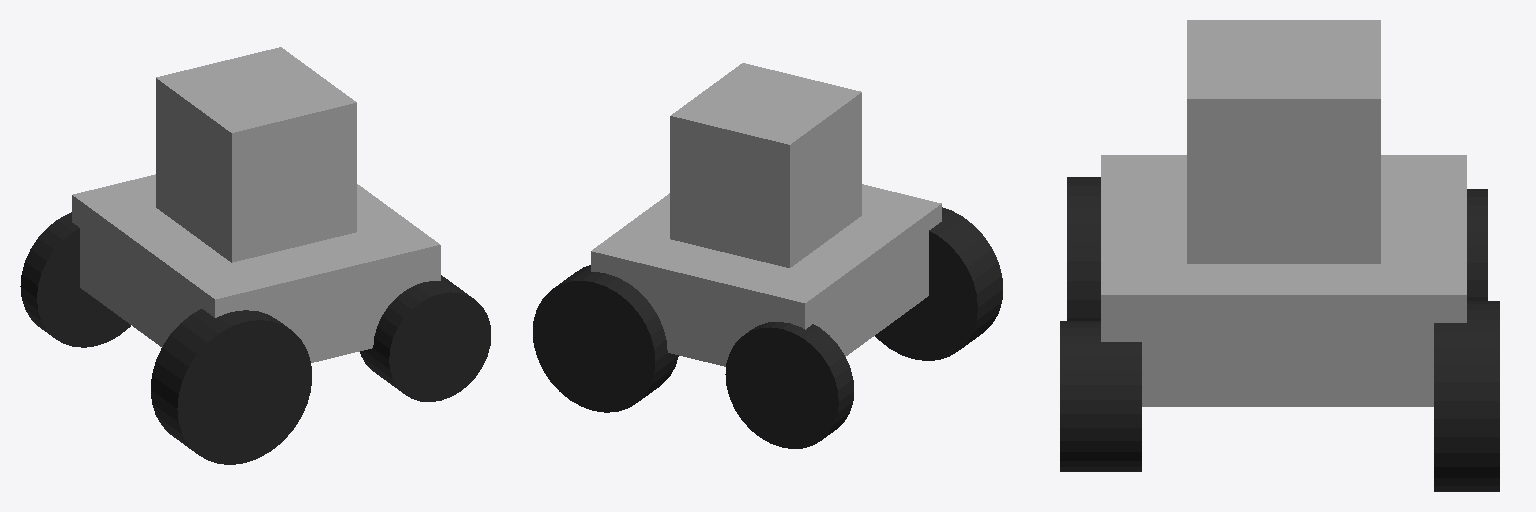
The robot description file, URDF, robot "evolved_robot":
<?xml version="1.0"?>
<robot name="evolved_robot">
  <material name="metal">
    <color rgba="0.7 0.7 0.7 1.0"/>
  </material>
  <material name="plastic">
    <color rgba="0.3 0.3 0.9 1.0"/>
  </material>
  <material name="rubber">
    <color rgba="0.1 0.1 0.1 1.0"/>
  </material>
  <material name="red">
    <color rgba="1.0 0.0 0.0 1.0"/>
  </material>
  <material name="wheel_material">
    <color rgba="0.2 0.2 0.2 1.0"/>
  </material>
  <link name="base_link">
    <visual>
      <geometry><box size="0.27732063552605285 0.3053804344445662 0.1023509380452807"/></geometry>
      <material name="metal"/>
    </visual>
    <collision>
      <geometry><box size="0.27732063552605285 0.3053804344445662 0.1023509380452807"/></geometry>
    </collision>
    <inertial>
      <mass value="5.0"/>
      <inertia ixx="0.08644410355025073" ixy="0" ixz="0" 
               iyy="0.07281870783943561" iyz="0" 
               izz="0.14180328719177154"/>
    </inertial>
  </link>
  <link name="link1">
    <visual>
      <geometry><sphere radius="0.056720709105281"/></geometry>
      <material name="rubber"/>
    </visual>
    <collision>
      <geometry><sphere radius="0.056720709105281"/></geometry>
    </collision>
    <inertial>
      <mass value="0.5"/>
      <inertia ixx="0.0012868955365623628" ixy="0" ixz="0" 
               iyy="0.0012868955365623628" iyz="0" 
               izz="0.0012868955365623628"/>
    </inertial>
  </link>
  <joint name="joint1" type="prismatic">
    <parent link="base_link"/>
    <child link="link1"/>
    <origin xyz="0 0 0.05117546902264035" rpy="0 0 0"/>
    <axis xyz="0.7878540913315163 -0.36260897475273335 0.49779580371972054"/>
    <dynamics damping="0.23143663430366734" friction="0.1"/>
    <limit lower="-2.6786953701914076" upper="0.36846683275504616" effort="100" velocity="100"/>
  </joint>
  <link name="link2">
    <visual>
      <geometry><box size="0.15448439191207008 0.16207127394998422 0.20487811919291604"/></geometry>
      <material name="metal"/>
    </visual>
    <collision>
      <geometry><box size="0.15448439191207008 0.16207127394998422 0.20487811919291604"/></geometry>
    </collision>
    <inertial>
      <mass value="0.5"/>
      <inertia ixx="0.005686845130316462" ixy="0" ixz="0" 
               iyy="0.005486705922372398" iyz="0" 
               izz="0.004177710432017741"/>
    </inertial>
  </link>
  <joint name="joint2" type="fixed">
    <parent link="base_link"/>
    <child link="link2"/>
    <origin xyz="0 0 0.10117546902264035" rpy="0 0 0"/>
    <axis xyz="-0.8131467146664461 0.5811469135167016 -0.03256816447355778"/>
    <dynamics damping="0.6447135498514903" friction="0.1"/>
  </joint>
  <link name="link3">
    <visual>
      <geometry>
        <cylinder radius="0.07946174434020054" length="0.05484881468768034"/>
      </geometry>
      <material name="wheel_material"/>
    </visual>
    <collision>
      <geometry>
        <cylinder radius="0.07946174434020054" length="0.05484881468768034"/>
      </geometry>
    </collision>
    <inertial>
      <mass value="1.0"/>
      <inertia ixx="0.0018292415761171396" ixy="0" ixz="0" 
               iyy="0.0018292415761171396" iyz="0" 
               izz="0.003157084406793696"/>
    </inertial>
  </link>
  <joint name="joint3" type="continuous">
    <parent link="base_link"/>
    <child link="link3"/>
    <origin xyz="0.11866031776302642 0.1526902172222831 -0.05117546902264035" rpy="1.5708 0 0"/>
    <axis xyz="0 1 0"/>
    <dynamics damping="0.8662548450750788" friction="0.1"/>
  </joint>
  <link name="link4">
    <visual>
      <geometry>
        <cylinder radius="0.06299066332634884" length="0.06804282820152673"/>
      </geometry>
      <material name="wheel_material"/>
    </visual>
    <collision>
      <geometry>
        <cylinder radius="0.06299066332634884" length="0.06804282820152673"/>
      </geometry>
    </collision>
    <inertial>
      <mass value="1.0"/>
      <inertia ixx="0.0013777747890452306" ixy="0" ixz="0" 
               iyy="0.0013777747890452306" iyz="0" 
               izz="0.0019839118331467145"/>
    </inertial>
  </link>
  <joint name="joint4" type="continuous">
    <parent link="base_link"/>
    <child link="link4"/>
    <origin xyz="0.11866031776302642 -0.1526902172222831 -0.05117546902264035" rpy="1.5708 0 0"/>
    <axis xyz="0 1 0"/>
    <dynamics damping="0.6803936122012411" friction="0.1"/>
  </joint>
  <link name="link5">
    <visual>
      <geometry>
        <cylinder radius="0.07325488817888404" length="0.03504075800343833"/>
      </geometry>
      <material name="wheel_material"/>
    </visual>
    <collision>
      <geometry>
        <cylinder radius="0.07325488817888404" length="0.03504075800343833"/>
      </geometry>
    </collision>
    <inertial>
      <mass value="1.0"/>
      <inertia ixx="0.0014438908873131617" ixy="0" ixz="0" 
               iyy="0.0014438908873131617" iyz="0" 
               izz="0.002683139321050402"/>
    </inertial>
  </link>
  <joint name="joint5" type="fixed">
    <parent link="base_link"/>
    <child link="link5"/>
    <origin xyz="-0.11866031776302642 0.1526902172222831 -0.05117546902264035" rpy="1.5708 0 0"/>
    <axis xyz="0 1 0"/>
    <dynamics damping="0.8084040287101422" friction="0.1"/>
  </joint>
  <link name="link6">
    <visual>
      <geometry>
        <cylinder radius="0.08309551352814762" length="0.057170271976782414"/>
      </geometry>
      <material name="wheel_material"/>
    </visual>
    <collision>
      <geometry>
        <cylinder radius="0.08309551352814762" length="0.057170271976782414"/>
      </geometry>
    </collision>
    <inertial>
      <mass value="1.0"/>
      <inertia ixx="0.00199858609195158" ixy="0" ixz="0" 
               iyy="0.00199858609195158" iyz="0" 
               izz="0.003452432184253282"/>
    </inertial>
  </link>
  <joint name="joint6" type="continuous">
    <parent link="base_link"/>
    <child link="link6"/>
    <origin xyz="-0.11866031776302642 -0.1526902172222831 -0.05117546902264035" rpy="1.5708 0 0"/>
    <axis xyz="0 1 0"/>
    <dynamics damping="0.7100066042512578" friction="0.1"/>
  </joint>
</robot>

--- What the picture shows (computed from the rendered views, not written in the file) ---
The picture shows the robot from 3 angles, left to right: view 1: azimuth 30°, elevation 25°; view 2: azimuth 150°, elevation 25°; view 3: azimuth 270°, elevation 25°; orthographic projection.
Model evolved_robot with 7 links and 6 joints (3 continuous, 1 prismatic, 2 fixed), rooted at base_link, posed every joint at zero.
Visible links, largest first — view 1: base_link, link2, link6, link4, link5; view 2: base_link, link2, link3, link5, link6; view 3: base_link, link2, link3, link4, link6, link5.
Boxes of the visible links, x1,y1,x2,y2 form: base_link: [72, 174, 440, 362]; link2: [156, 47, 356, 262]; link6: [151, 309, 311, 464]; link4: [360, 275, 490, 401]; link5: [20, 212, 130, 347]; base_link: [591, 184, 941, 366]; link2: [670, 63, 861, 267]; link3: [533, 265, 678, 412]; link5: [725, 322, 853, 448]; link6: [875, 207, 1002, 360]; base_link: [1101, 155, 1466, 406]; link2: [1187, 20, 1380, 263]; link3: [1434, 301, 1499, 491]; link4: [1060, 321, 1141, 471]; link6: [1067, 177, 1100, 320]; link5: [1467, 189, 1487, 300].
Size in the robot's own frame: 0.3999 by 0.3668 by 0.3379 metres.
Geometry: primitives only (box / cylinder / sphere), no mesh files.